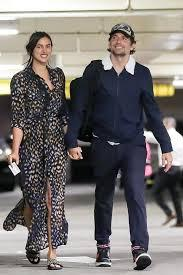Person: (64, 22, 174, 271), (2, 31, 83, 271)
